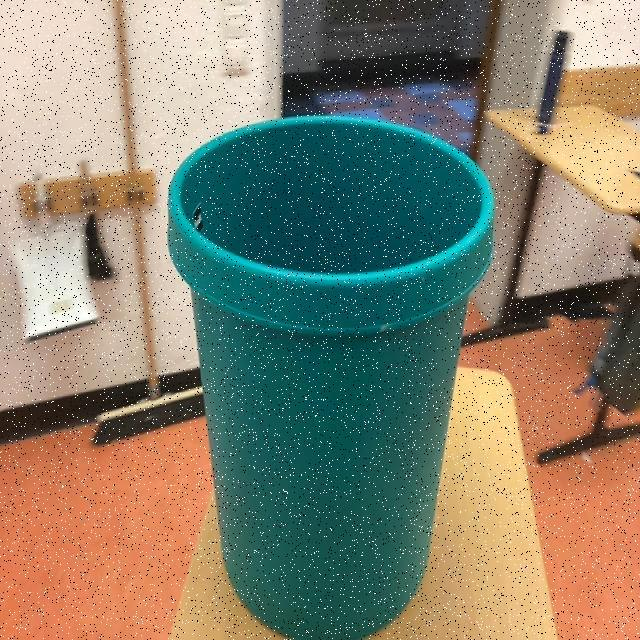garbage container: (129, 26, 514, 640)
